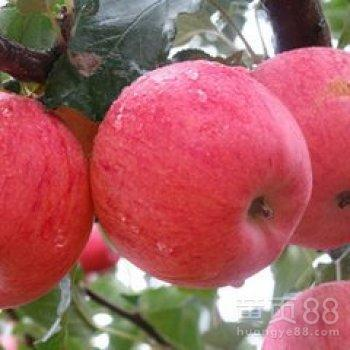apple: (90, 59, 314, 291), (249, 46, 350, 251), (1, 89, 90, 311)
